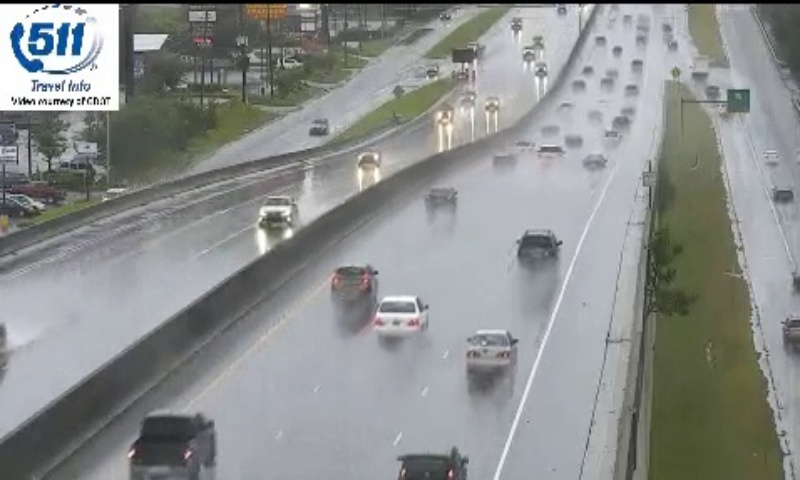car: (130, 409, 215, 480), (398, 444, 466, 479), (466, 329, 515, 373), (374, 295, 425, 335), (331, 263, 376, 301), (517, 230, 558, 266)
